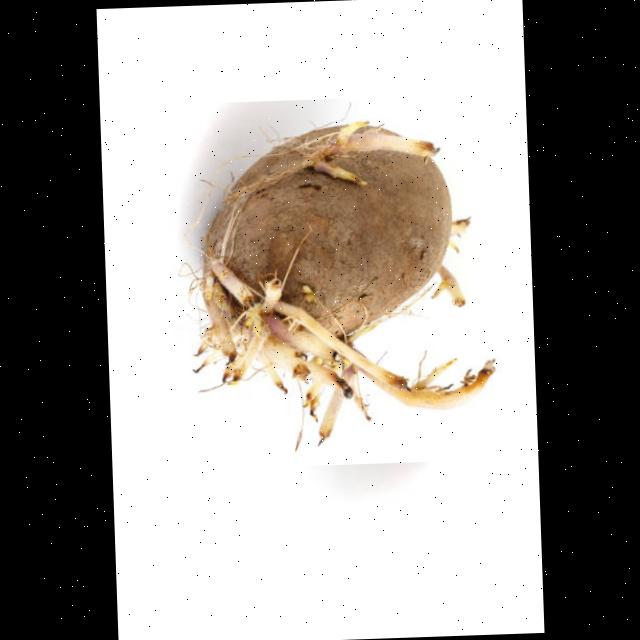Sprouted potato: (144, 92, 509, 470)
